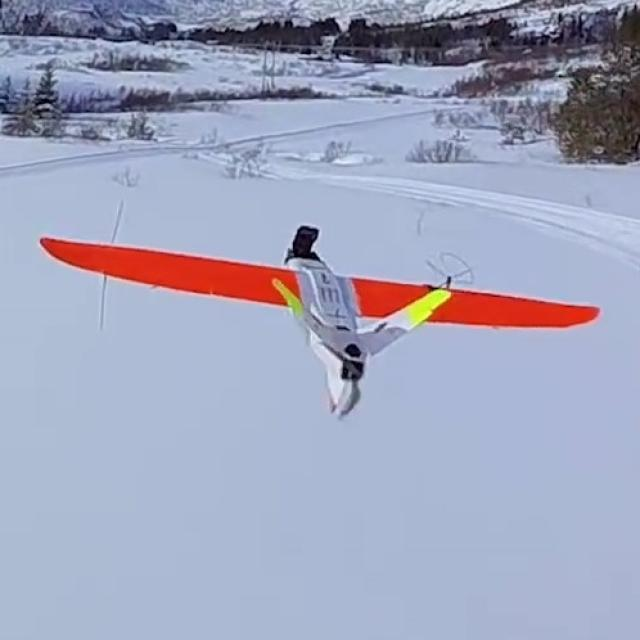iha: (39, 230, 602, 410)
